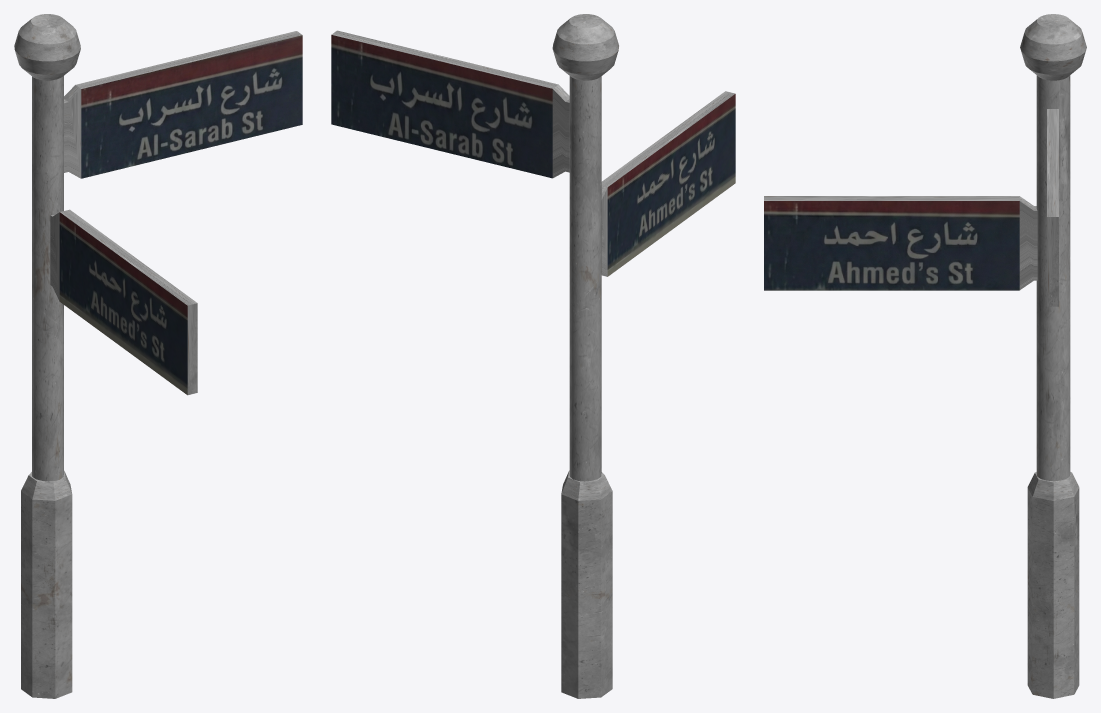
File: STREET BOARD.fbx
3 renders of one model, left to right at view 1: azimuth 30°, elevation 25°; view 2: azimuth 150°, elevation 25°; view 3: azimuth 270°, elevation 25°, orthographic.
Parts seen in each view (by area): view 1: pCylinder3, pCube1, pCube2; view 2: pCylinder3, pCube1, pCube2; view 3: pCylinder3, pCube2, pCube1.
Part boxes in pixels (left/top/right/bottom): pCylinder3: left=14, top=14, right=80, bottom=698; pCube1: left=64, top=31, right=302, bottom=178; pCube2: left=50, top=209, right=197, bottom=395; pCylinder3: left=552, top=14, right=618, bottom=698; pCube1: left=331, top=30, right=569, bottom=178; pCube2: left=601, top=91, right=735, bottom=276; pCylinder3: left=1020, top=14, right=1086, bottom=698; pCube2: left=764, top=196, right=1037, bottom=290; pCube1: left=1047, top=109, right=1058, bottom=306.
Bounding box in the file's own units: 3.48 × 7.89 × 3.46.
3 materials, 3 textured.
